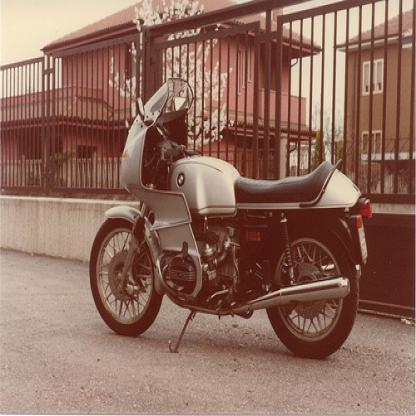motorbike: (88, 76, 371, 361)
